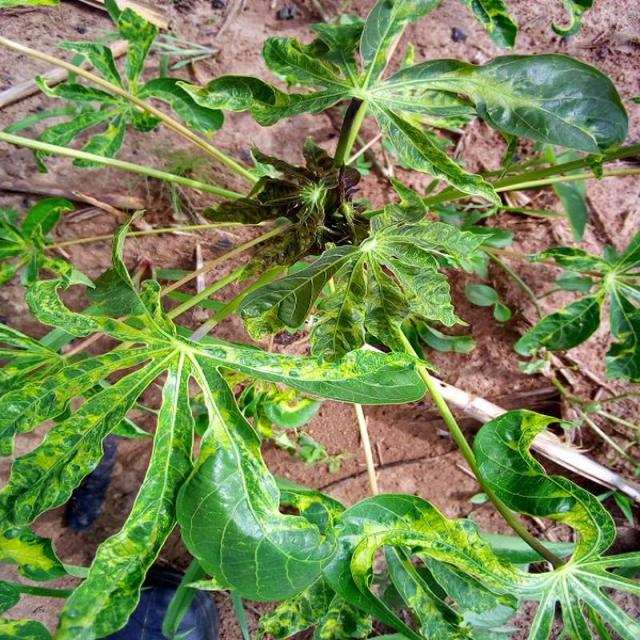cassava leaf: (1, 213, 430, 638)
